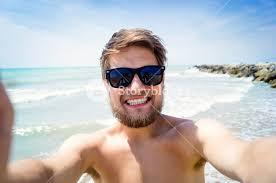sunglasses: (102, 63, 170, 89)
